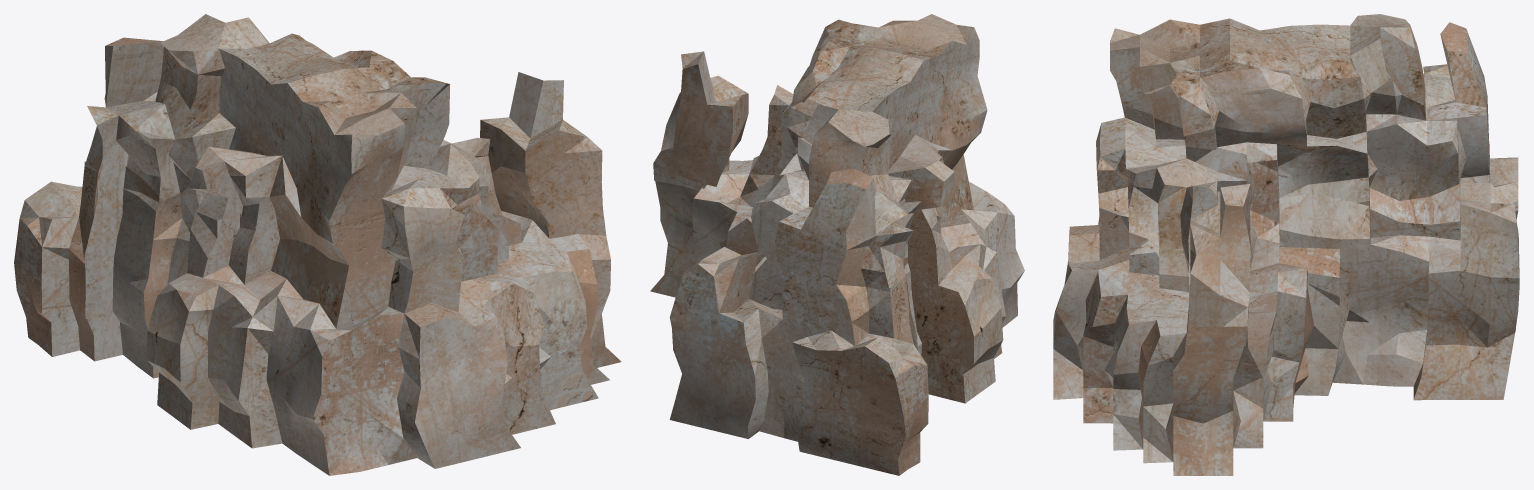
File: Mountain Sand Test1.fbx
3 views of the same model, side by side, from view 1: azimuth 30°, elevation 25°; view 2: azimuth 150°, elevation 25°; view 3: azimuth 270°, elevation 25° (orthographic). The views are drawn at different scales.
Visible parts, largest first — view 1: Plane; view 2: Plane; view 3: Plane.
Part boxes in pixels (x1=…): Plane: x1=14, y1=14, x2=621, y2=475; Plane: x1=650, y1=14, x2=1024, y2=475; Plane: x1=1053, y1=14, x2=1519, y2=475.
Size of the model in its own units: 769 by 571 by 758.
